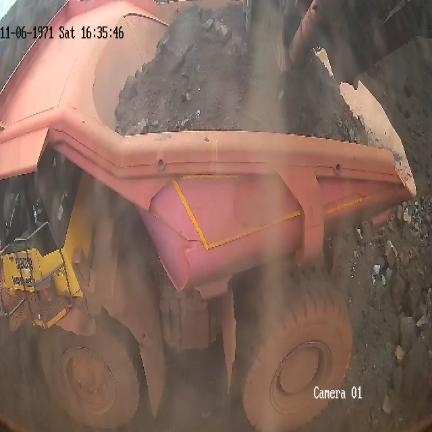pile: (111, 1, 367, 142), (325, 197, 430, 432)
